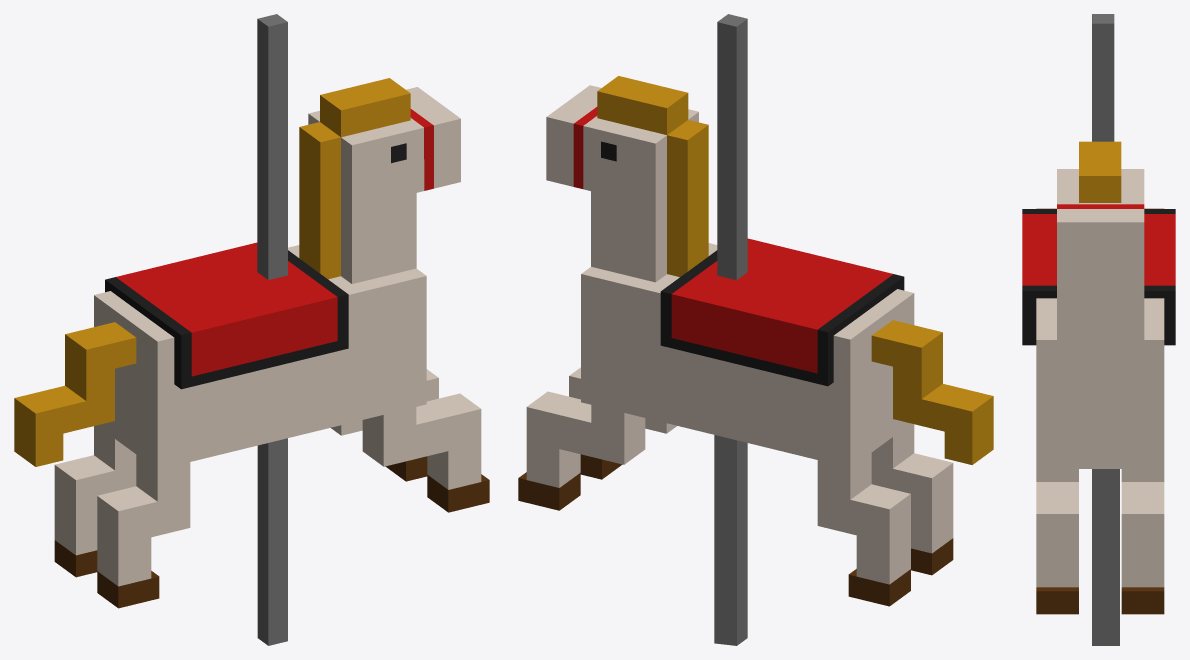
Rendered from 회전목마.fbx.
3 views of the same model, side by side, from view 1: azimuth 30°, elevation 25°; view 2: azimuth 150°, elevation 25°; view 3: azimuth 270°, elevation 25° (orthographic).
Parts seen in each view (by area): view 1: Box005; view 2: Box005; view 3: Box005.
Boxes of the visible parts, box(x1,y1,x2,y2) form: Box005: box(14, 14, 489, 645); Box005: box(518, 14, 993, 645); Box005: box(1022, 14, 1175, 645).
Size of the model in its own units: 50.33 by 68.83 by 15.34.
1 material, 1 textured.
